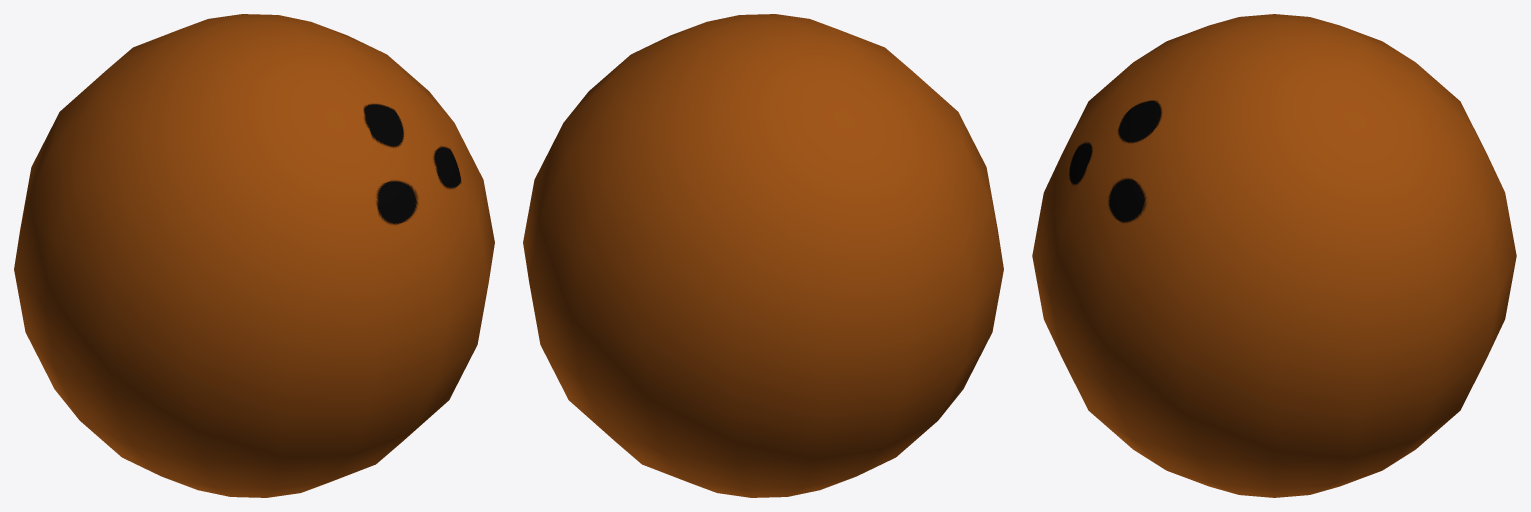
Rendered from texiaoqiuB.FBX.
3 renders of one model, left to right at view 1: azimuth 30°, elevation 25°; view 2: azimuth 150°, elevation 25°; view 3: azimuth 270°, elevation 25°, orthographic.
Parts seen in each view (by area): view 1: texiaoqiuB; view 2: texiaoqiuB; view 3: texiaoqiuB.
Part boxes in pixels (x1=…): texiaoqiuB: x1=14, y1=14, x2=494, y2=497; texiaoqiuB: x1=523, y1=14, x2=1003, y2=497; texiaoqiuB: x1=1032, y1=14, x2=1516, y2=497.
Size of the model in its own units: 563 by 563 by 563.
1 material, 1 textured.
